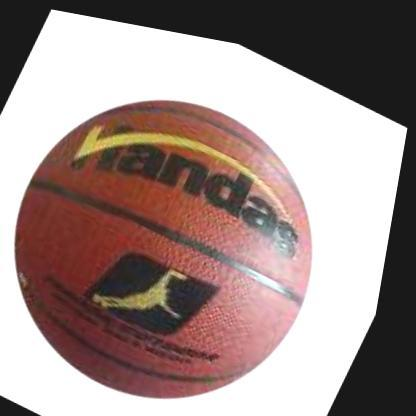basketball: (0, 27, 381, 416)
